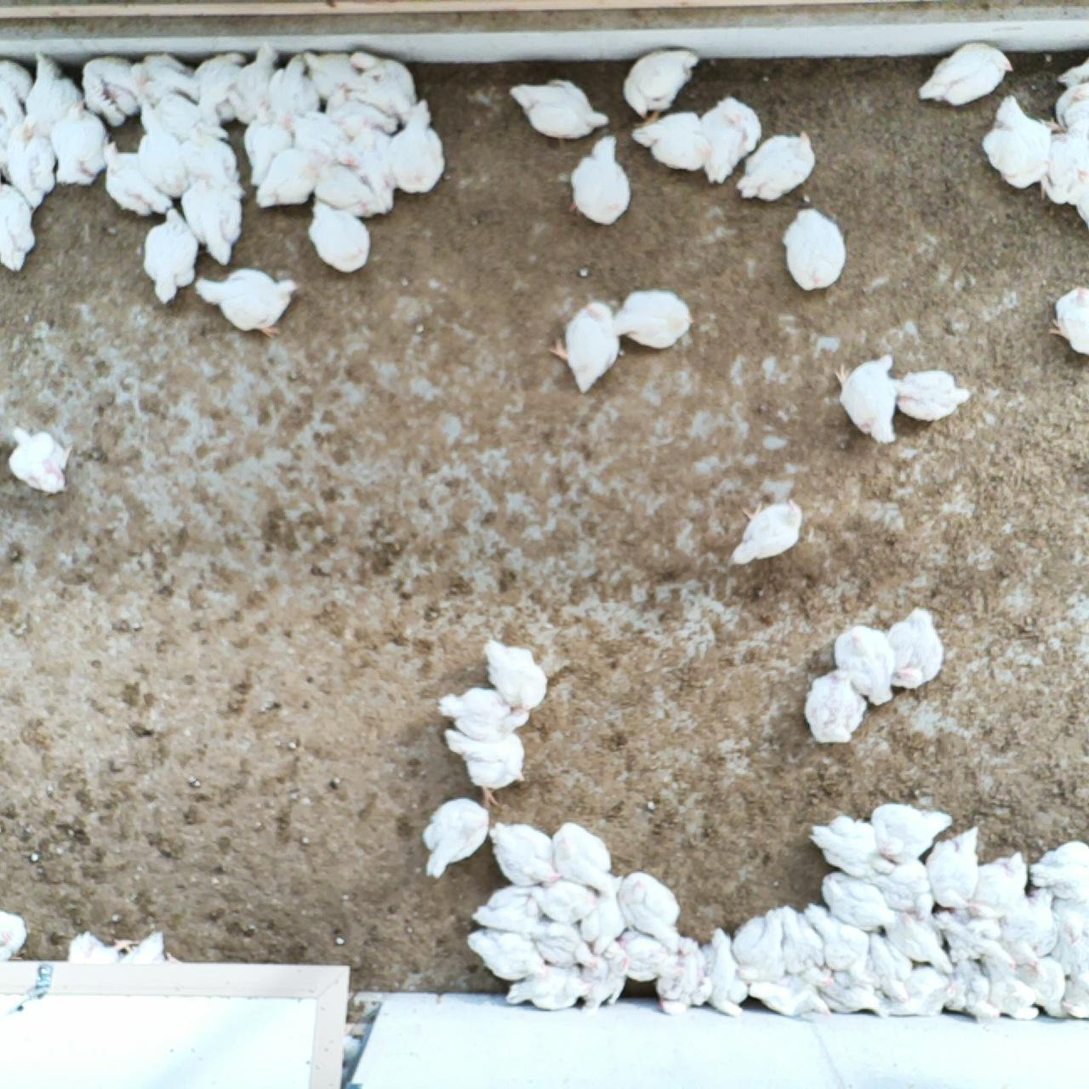chicken: (193, 264, 300, 341), (439, 724, 531, 810), (549, 298, 625, 399), (620, 44, 703, 133), (508, 76, 614, 142), (567, 131, 638, 229), (982, 94, 1052, 193), (419, 793, 495, 884), (831, 350, 903, 446), (916, 41, 1017, 109), (734, 128, 823, 204), (140, 205, 204, 306), (385, 96, 449, 197), (180, 166, 245, 265), (798, 904, 880, 982), (96, 135, 174, 217), (807, 812, 895, 882), (866, 799, 956, 867), (49, 99, 117, 187), (338, 119, 400, 215), (131, 111, 195, 203), (175, 122, 249, 201), (698, 94, 761, 186), (923, 825, 984, 920), (610, 285, 695, 353), (781, 207, 848, 293), (882, 604, 947, 692), (20, 50, 83, 140), (616, 871, 683, 955), (549, 821, 622, 898), (833, 622, 897, 709), (996, 879, 1063, 962), (303, 200, 376, 276), (973, 943, 1044, 1021), (691, 927, 751, 1019), (801, 663, 868, 745), (731, 496, 807, 568), (348, 48, 417, 127), (630, 110, 713, 175), (437, 684, 530, 742), (6, 422, 79, 495), (479, 638, 550, 713), (487, 819, 563, 889), (5, 112, 57, 214), (301, 154, 383, 218), (655, 933, 716, 1018), (466, 921, 551, 982), (252, 148, 331, 213), (773, 905, 834, 989), (242, 97, 297, 188), (79, 52, 143, 130), (880, 906, 953, 974), (470, 882, 552, 942), (227, 41, 284, 127), (261, 49, 325, 125), (505, 961, 596, 1014), (816, 867, 895, 928), (936, 899, 1004, 968), (871, 855, 939, 924), (967, 848, 1036, 915), (889, 369, 973, 424), (127, 50, 200, 113), (316, 81, 398, 137), (730, 905, 787, 985), (524, 867, 599, 927), (744, 968, 832, 1019), (138, 94, 221, 148), (578, 872, 631, 956), (189, 50, 248, 124), (939, 956, 1004, 1022), (860, 929, 916, 1005), (578, 940, 631, 1017), (1029, 835, 1089, 903), (820, 966, 895, 1020), (277, 108, 349, 164), (1012, 955, 1071, 1023), (332, 111, 397, 171), (611, 931, 682, 985), (887, 966, 955, 1022), (1045, 120, 1089, 205), (525, 921, 599, 971), (0, 180, 39, 274), (61, 929, 142, 969), (1046, 282, 1089, 357), (301, 50, 360, 101), (120, 925, 182, 971), (0, 58, 37, 122), (1044, 893, 1089, 945), (1047, 926, 1089, 978), (1052, 78, 1089, 133), (0, 907, 35, 965), (1057, 971, 1089, 1021), (1068, 164, 1089, 226), (1058, 52, 1089, 89)
